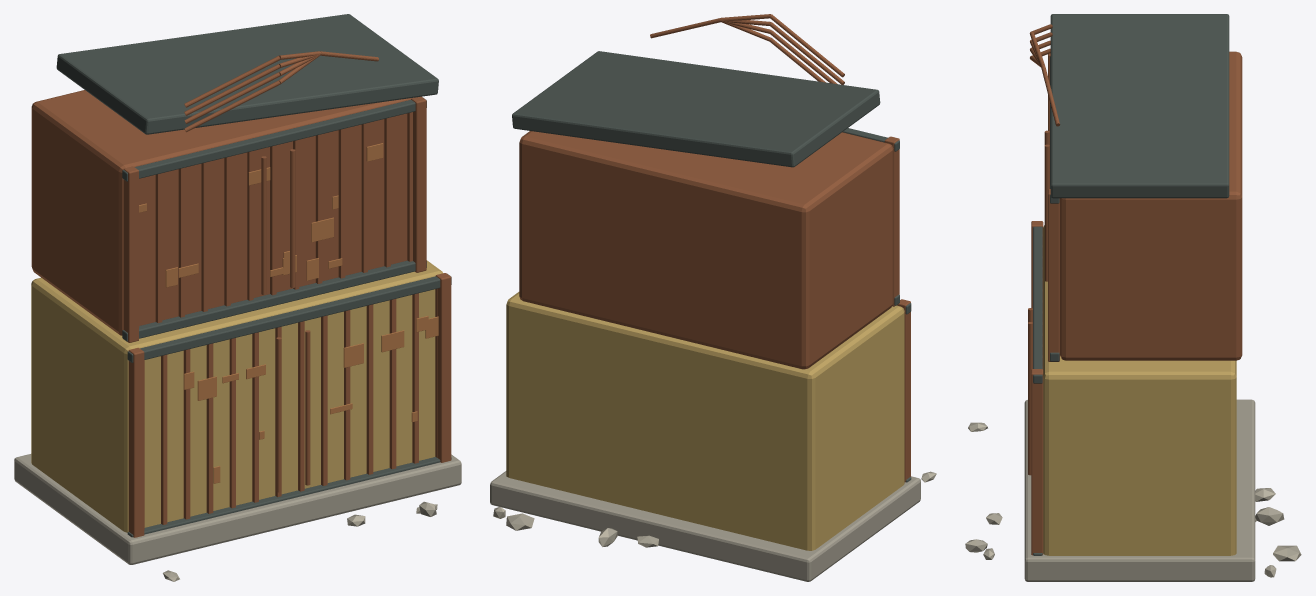
The model's file is Wall_Container_Stack.glb.
The picture shows the model from 3 angles, left to right: view 1: azimuth 30°, elevation 25°; view 2: azimuth 150°, elevation 25°; view 3: azimuth 270°, elevation 25°; orthographic projection. The views are drawn at different scales.
Parts seen in each view (by area): view 1: Structure; view 2: Structure; view 3: Structure.
Boxes of the visible parts, bbox=[...] form: Structure: bbox=[14, 14, 461, 581]; Structure: bbox=[490, 14, 936, 581]; Structure: bbox=[965, 14, 1301, 581].
Bounding box in the file's own units: 5.1 × 6.97 × 4.51.
